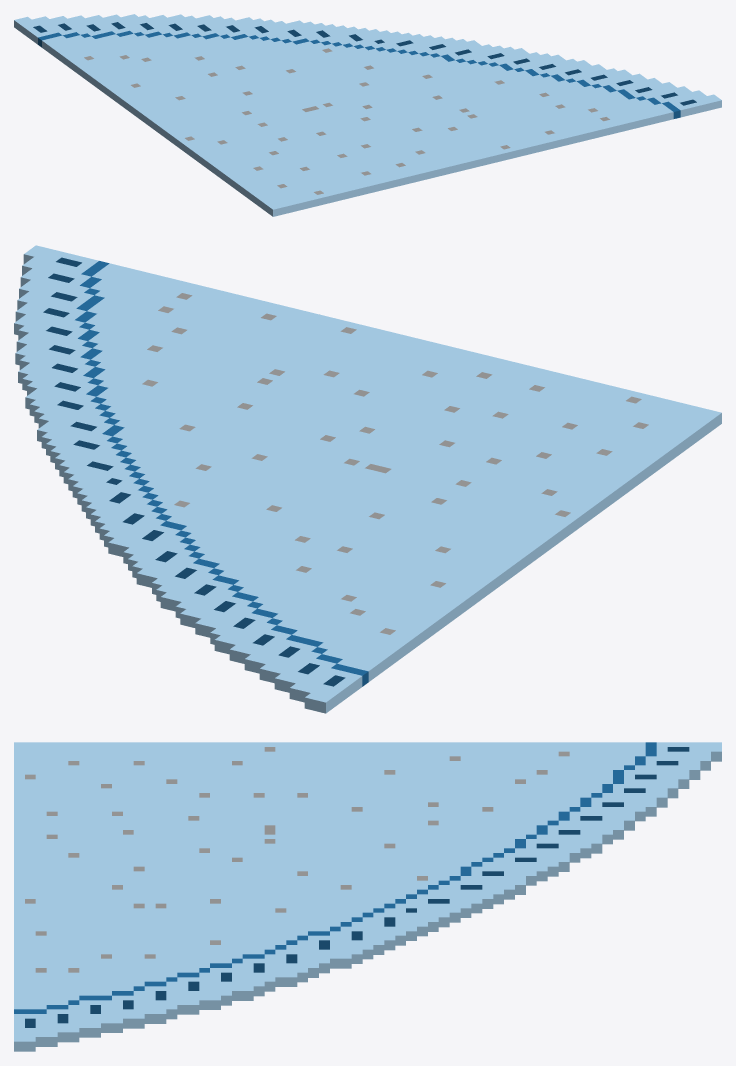
File: 90_Large-3.obj
3 renders of one model, top to bottom at view 1: azimuth 30°, elevation 25°; view 2: azimuth 150°, elevation 25°; view 3: azimuth 270°, elevation 25°, orthographic. The views are drawn at different scales.
Visible parts, largest first — view 1: 90_Large-3; view 2: 90_Large-3; view 3: 90_Large-3.
Boxes of the visible parts, box(x1,y1,x2,y2) form: 90_Large-3: box(14, 14, 721, 216); 90_Large-3: box(14, 245, 721, 713); 90_Large-3: box(14, 742, 721, 1051).
Bounding box in the file's own units: 65 × 1 × 65.
1 material, 1 textured.
